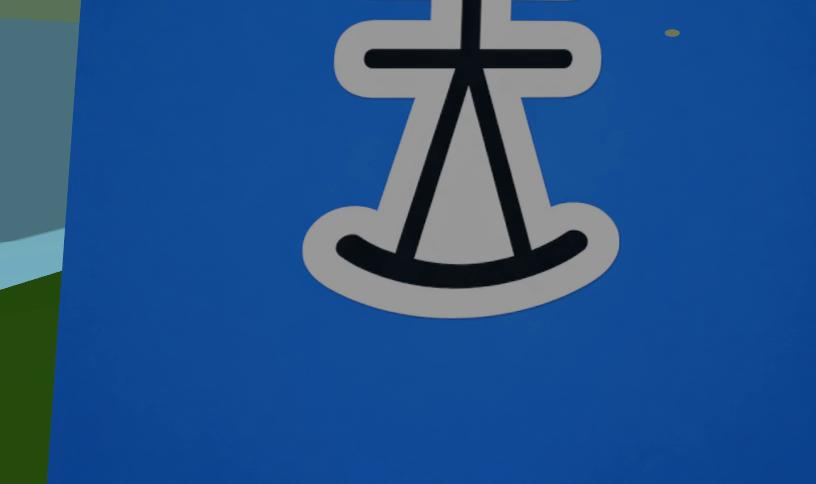KFS_REAL: (49, 0, 816, 483), (303, 0, 619, 318)
